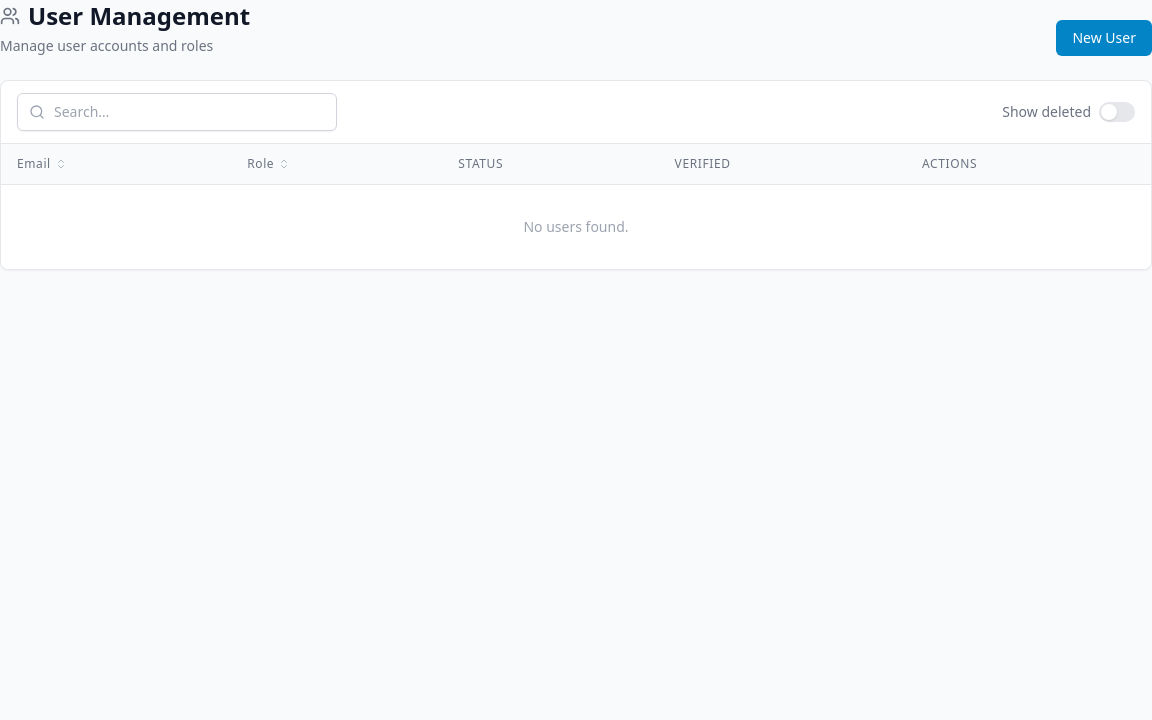
Test: Users admin page › create modal closes on Escape key
Click the button "New User" at (1104, 38), box [1056,20,1151,56]
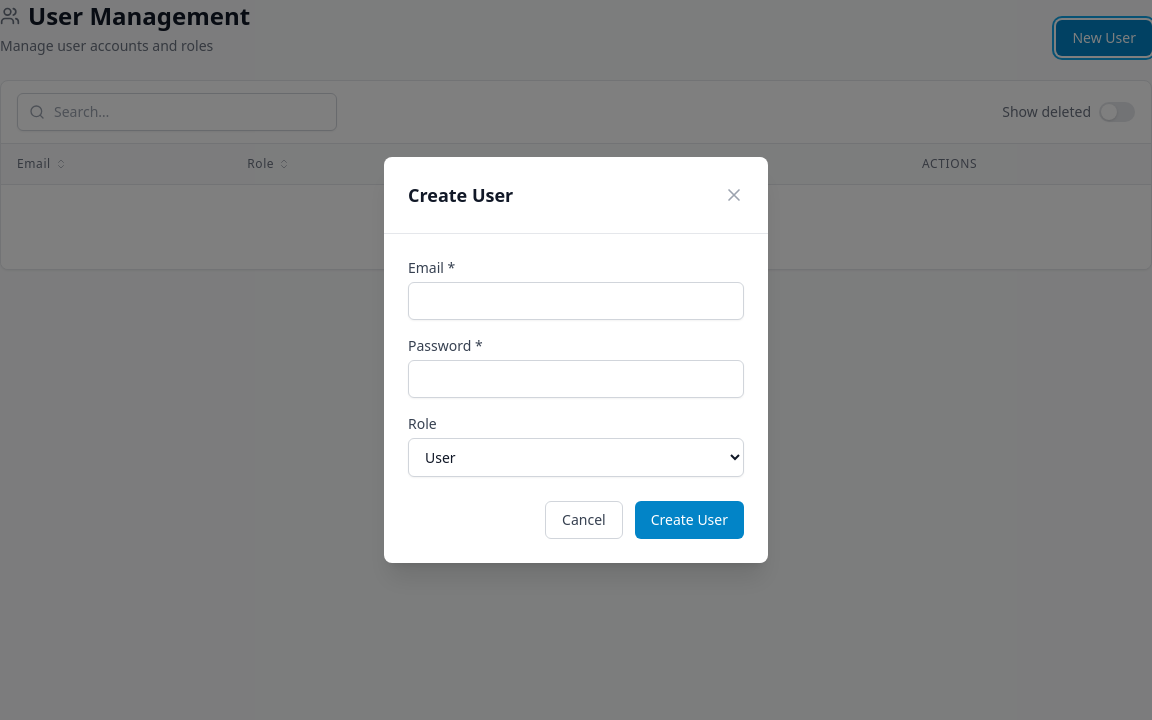
Press Escape
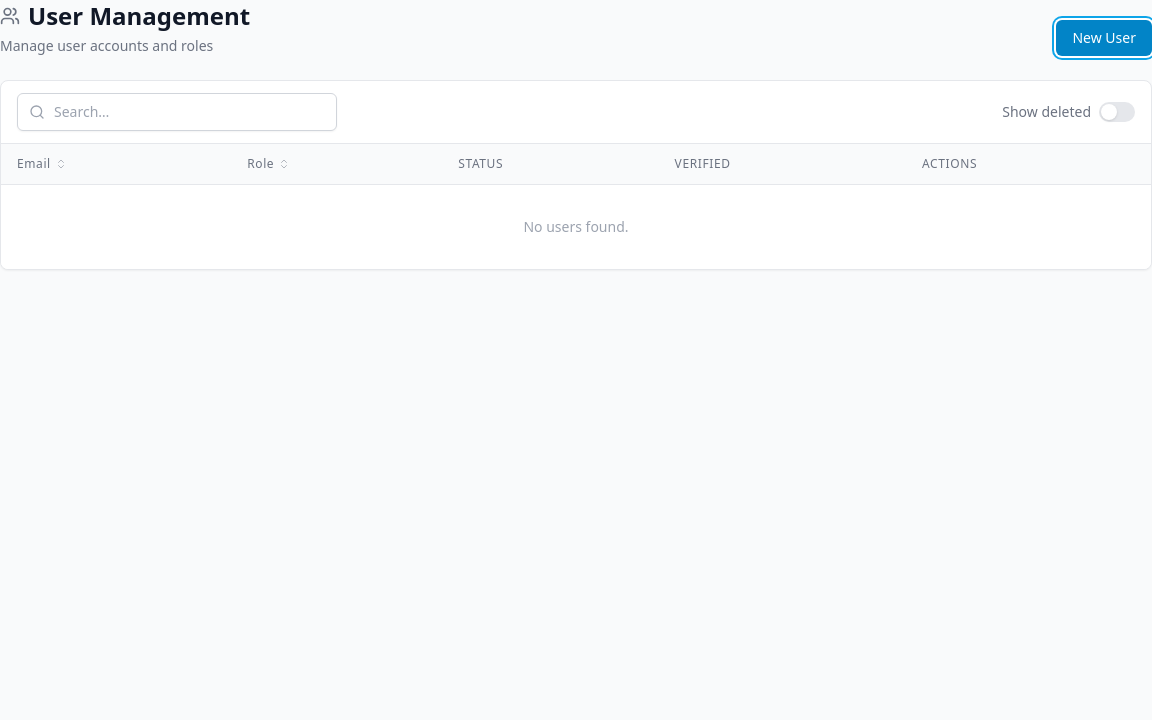
Result: the heading "Create User" is gone
